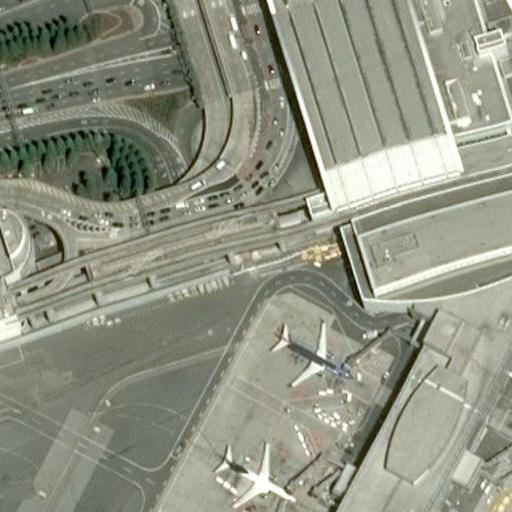Aircraft: (269, 319, 351, 390), (210, 442, 294, 509)
